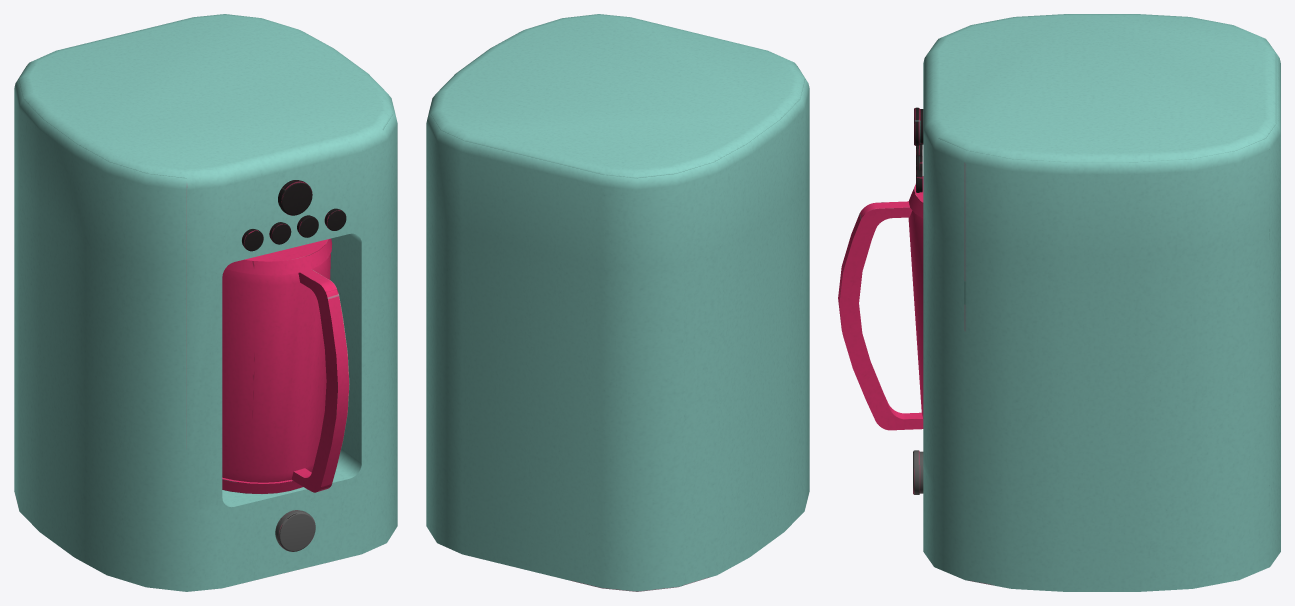
File: CoffeePot.001.fbx
The picture shows the model from 3 angles, left to right: view 1: azimuth 30°, elevation 25°; view 2: azimuth 150°, elevation 25°; view 3: azimuth 270°, elevation 25°; orthographic projection. The views are drawn at different scales.
Parts seen in each view (by area): view 1: CoffeePot.001_Baked; view 2: CoffeePot.001_Baked; view 3: CoffeePot.001_Baked.
Part boxes in pixels (left/top/right/bottom): CoffeePot.001_Baked: left=14, top=14, right=397, bottom=591; CoffeePot.001_Baked: left=426, top=14, right=809, bottom=591; CoffeePot.001_Baked: left=838, top=14, right=1280, bottom=591.
Bounding box in the file's own units: 30 × 40 × 37.16.
Materials: 1 (1 with a texture image).
